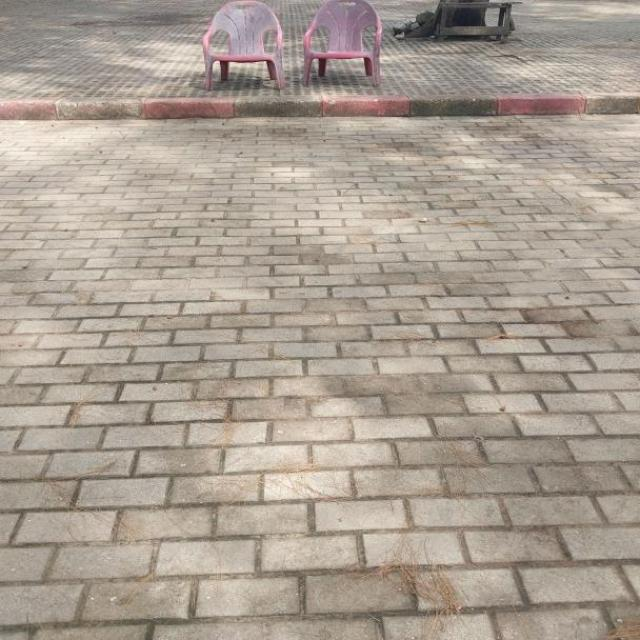chair ahead at: (299, 0, 389, 87), (200, 2, 288, 88)
